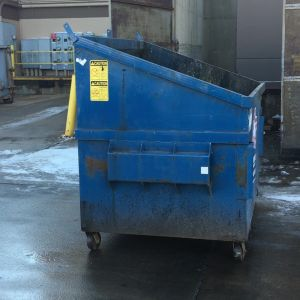Dumpster: (61, 20, 270, 264)
